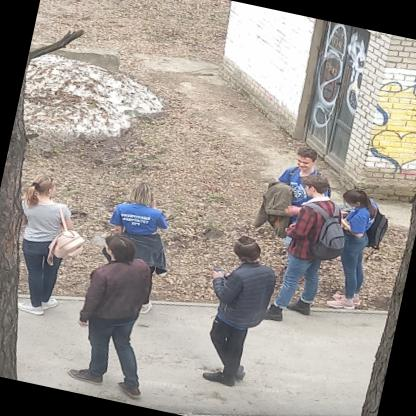Human Body: (65, 232, 181, 399), (194, 233, 282, 390), (93, 176, 182, 316), (0, 171, 87, 314), (272, 171, 340, 324), (264, 146, 338, 281), (318, 183, 388, 310)
